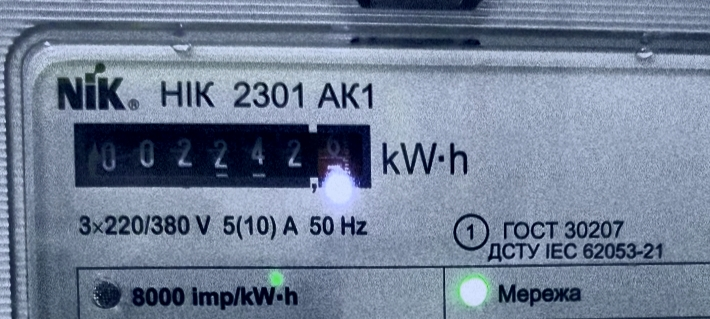0: (97, 139, 117, 173), (135, 136, 154, 169)
2: (209, 136, 228, 170), (173, 136, 193, 168), (284, 137, 301, 169)
4: (248, 134, 264, 167)
6: (324, 130, 340, 158)
screen: (61, 108, 380, 203)
